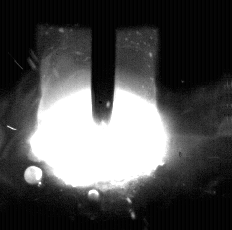arame: (92, 0, 115, 125)
poca: (30, 0, 170, 230)
